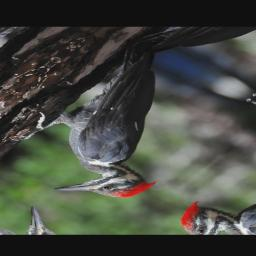Woodpecker: (0, 42, 256, 219)
